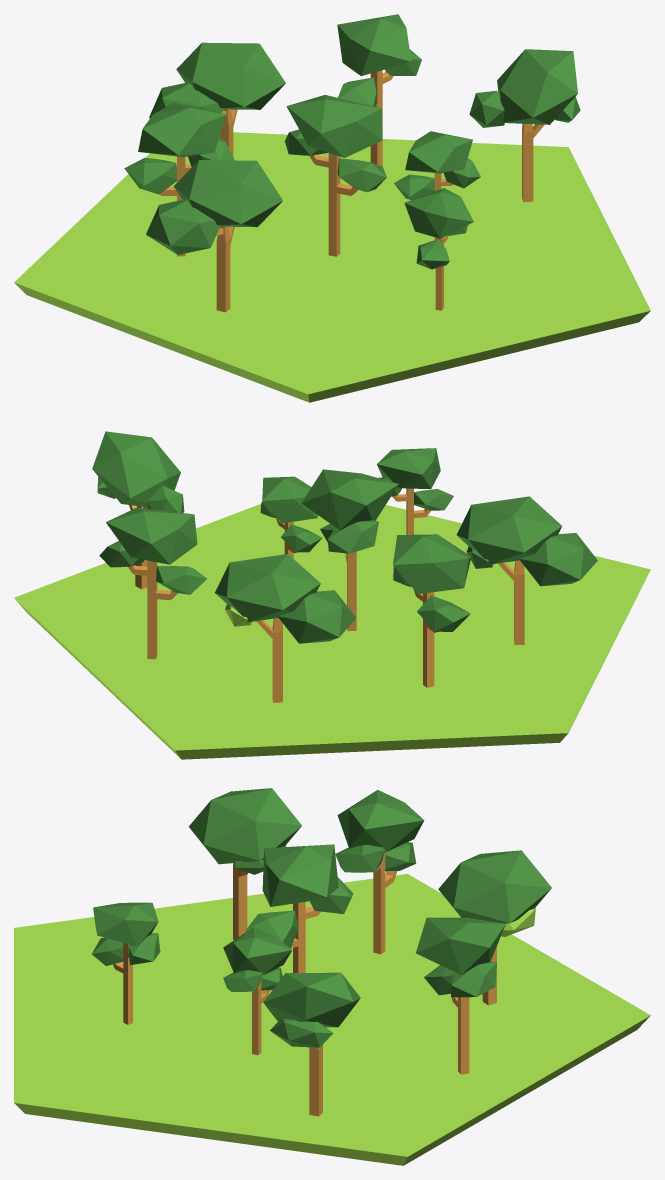
Rendered from TuileForestLeaf2.fbx.
3 views of the same model, one above another, from view 1: azimuth 30°, elevation 25°; view 2: azimuth 150°, elevation 25°; view 3: azimuth 270°, elevation 25° (orthographic). The views are drawn at different scales.
Visible parts, largest first — view 1: G_F_leaf.001; view 2: G_F_leaf.001; view 3: G_F_leaf.001.
Part boxes in pixels (left/top/right/bottom): G_F_leaf.001: left=14, top=14, right=650, bottom=402; G_F_leaf.001: left=14, top=431, right=650, bottom=759; G_F_leaf.001: left=14, top=788, right=650, bottom=1165.
Bounding box in the file's own units: 111 × 32.17 × 105.
